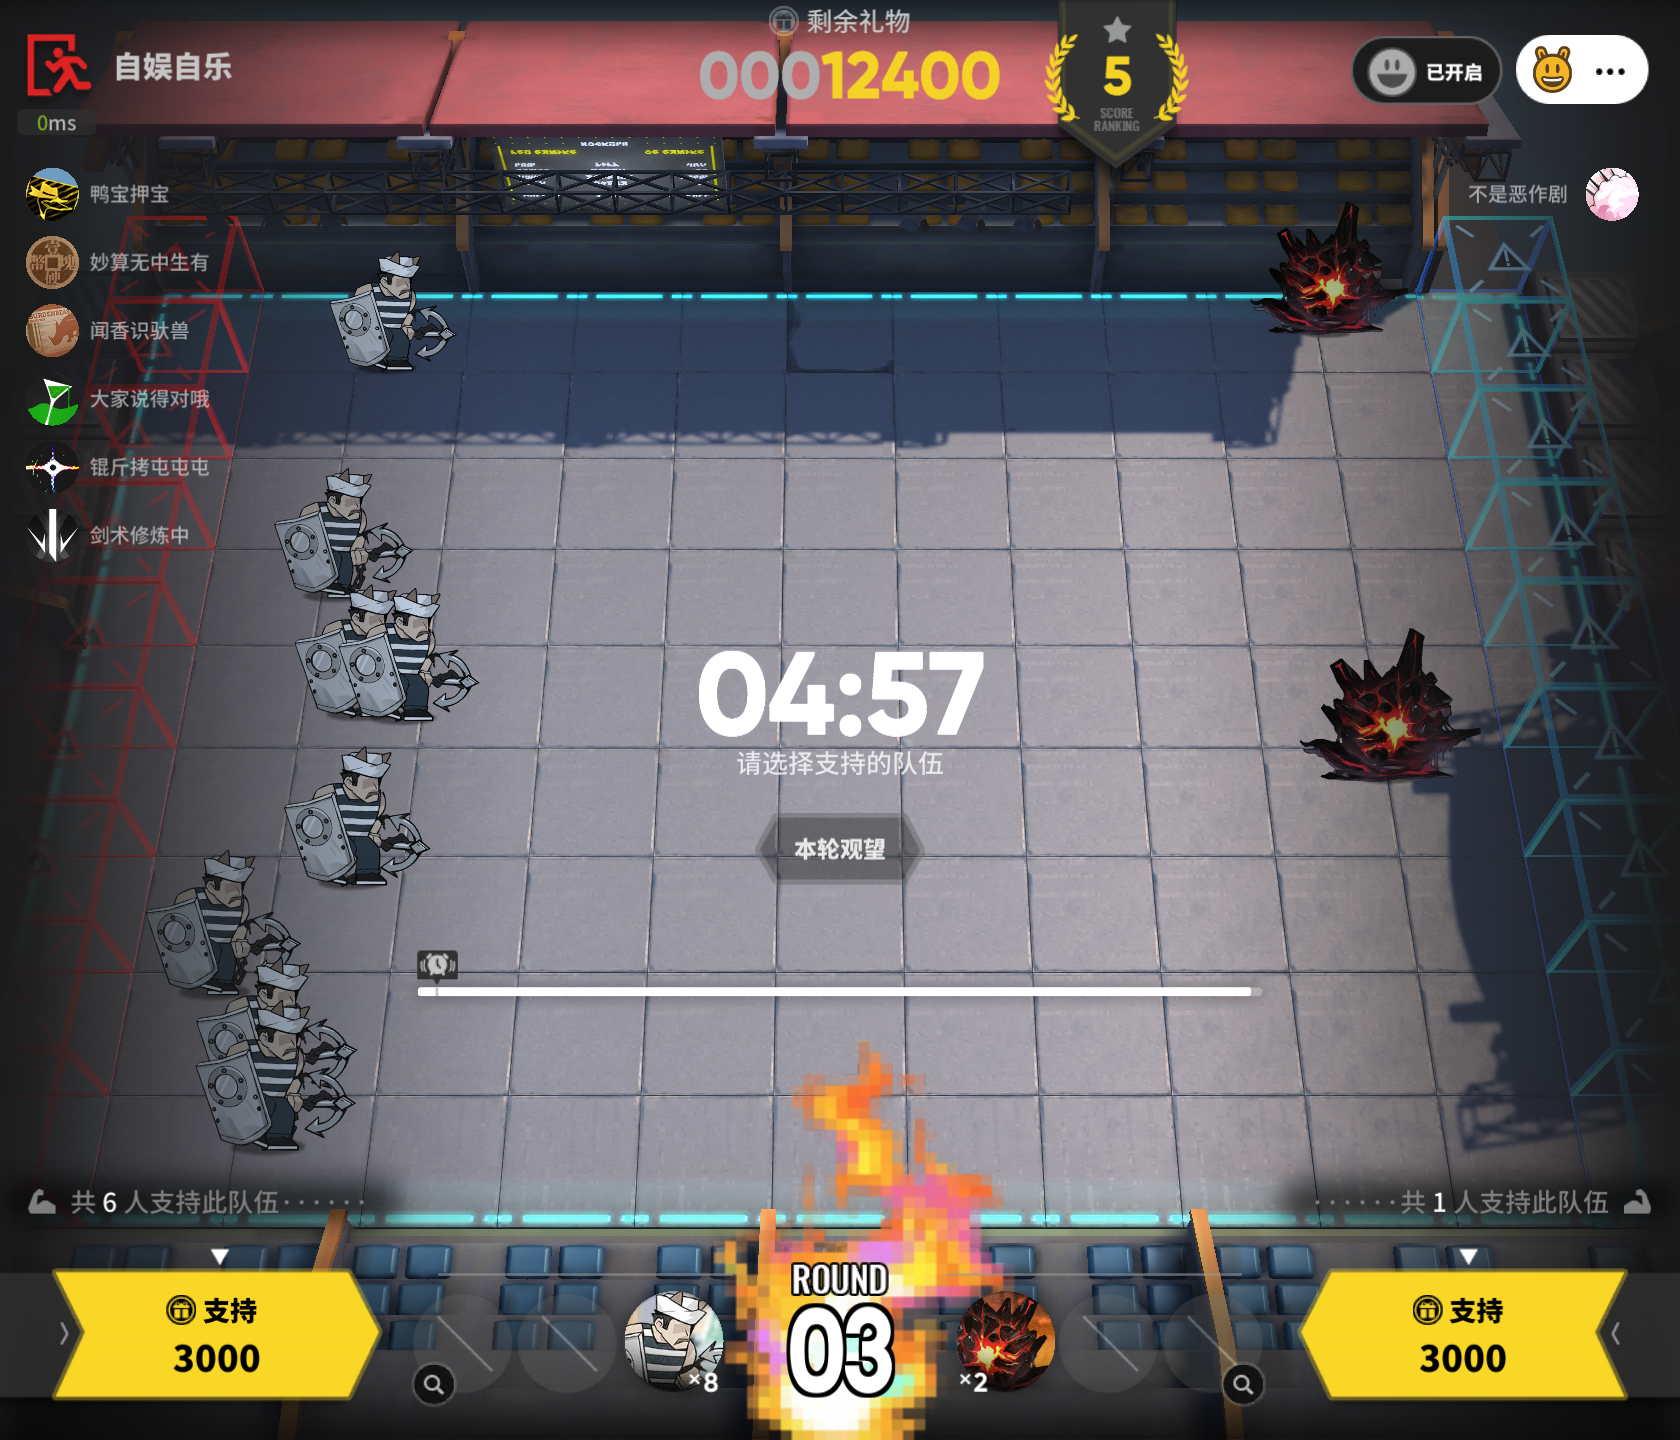“庞贝”: (1299, 627, 1480, 781), (1250, 201, 1393, 334), (959, 1291, 1063, 1397)
过气水手: (199, 1011, 353, 1159), (284, 749, 429, 886), (343, 583, 471, 719), (274, 469, 411, 596), (147, 850, 259, 993), (329, 251, 454, 370), (213, 966, 344, 1079), (294, 586, 391, 720), (623, 1286, 724, 1391)
